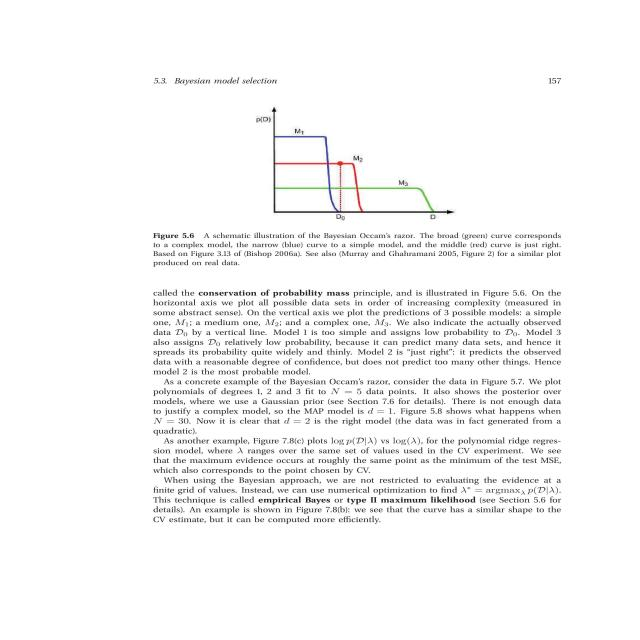diagram: (114, 100, 581, 279)
